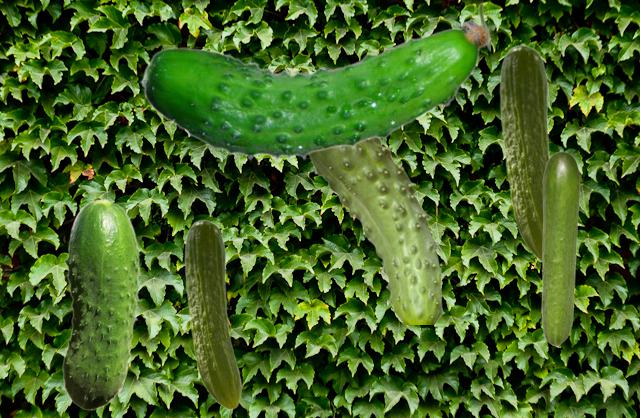cucumber: (139, 2, 489, 160), (308, 139, 444, 323), (62, 198, 140, 409), (499, 44, 551, 262), (184, 219, 241, 409), (541, 151, 579, 345)
